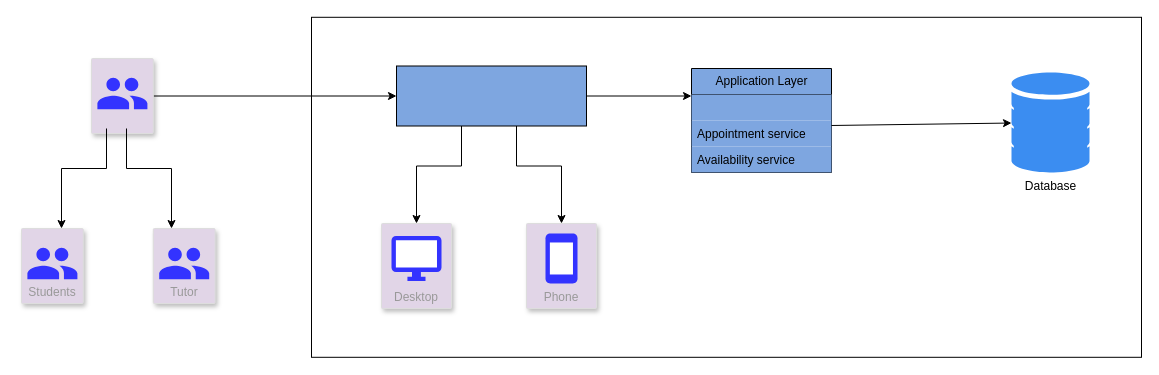
This 1159x375 diagram has some shape labels left out. Here are the shapes that lost their labels. From the top down, the centre of each, then its label:
(x=122, y=97): Users
(x=491, y=95): User Interface
(x=761, y=107): Auth service
